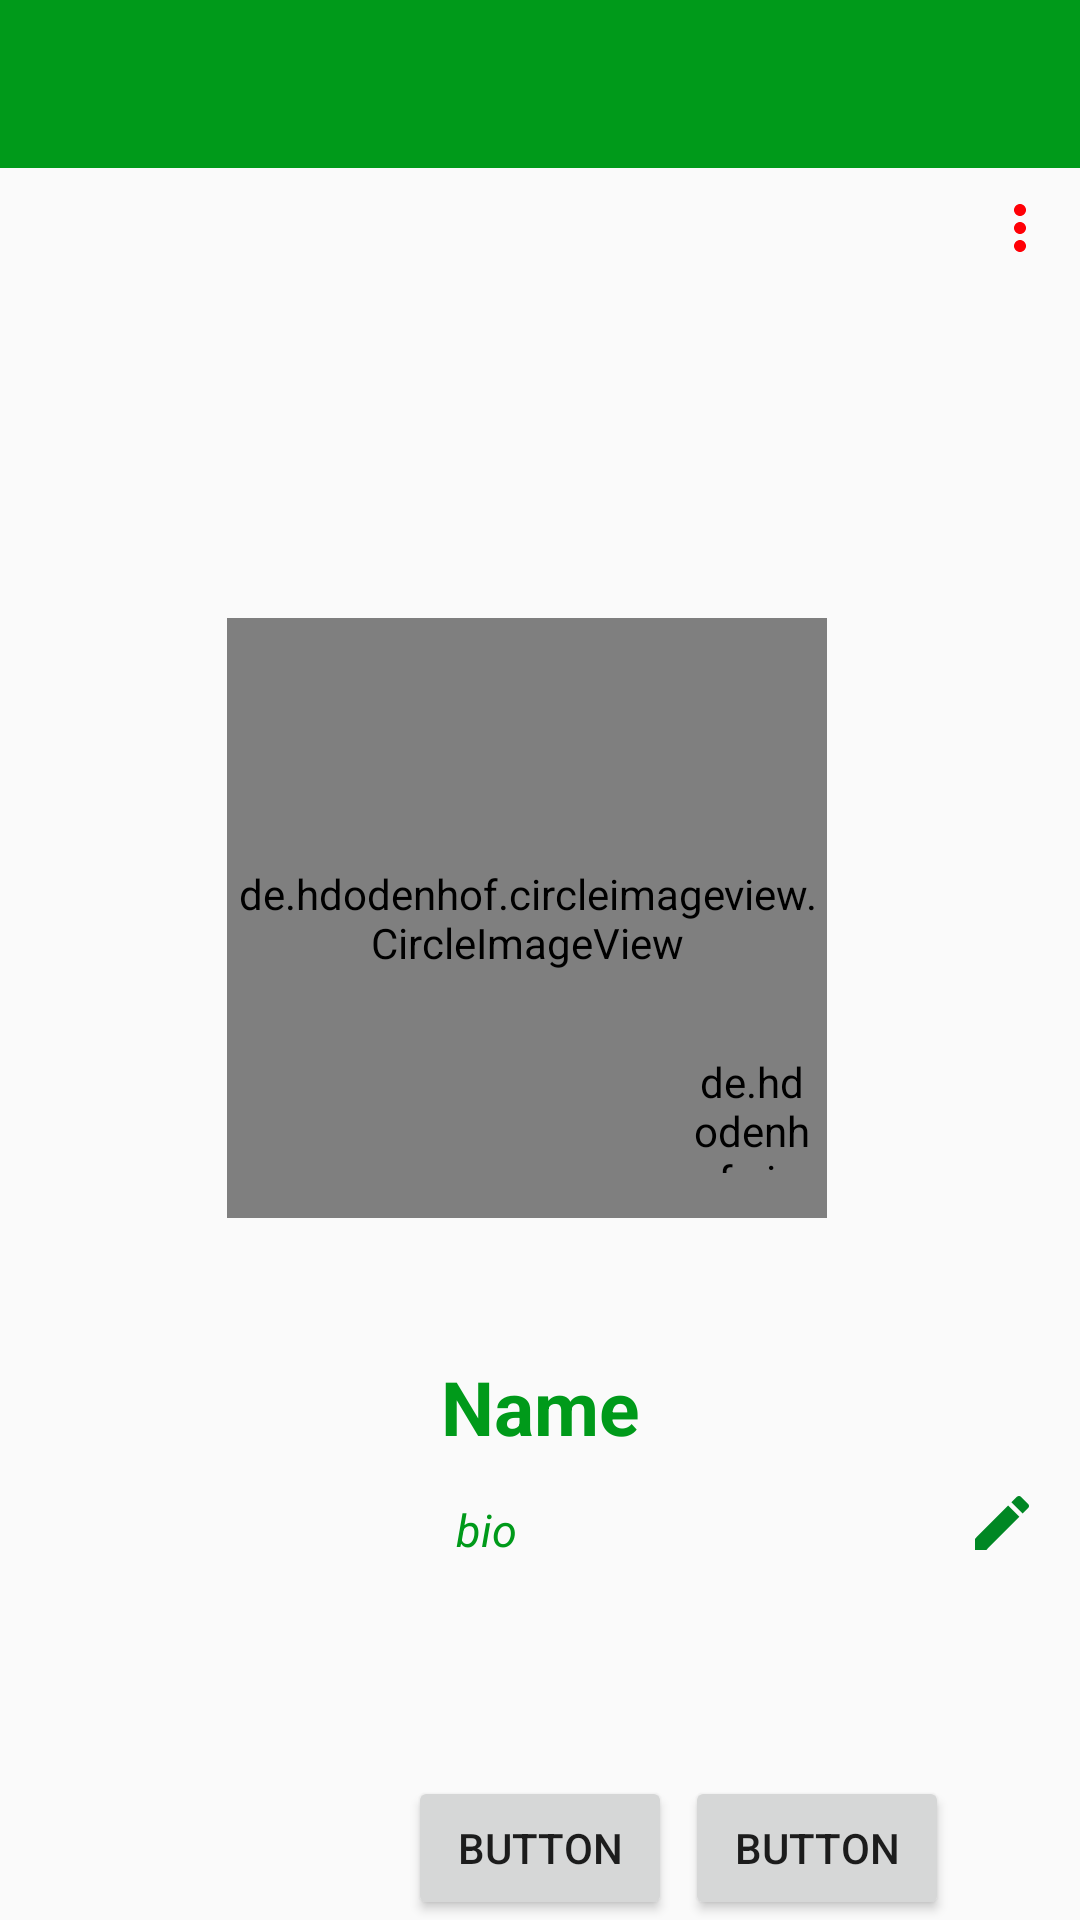

Screen size 1080×1920. Icon name, then its center in pixels as point (x, y):
edit: point (1002, 1523)
more: point (1020, 228)
